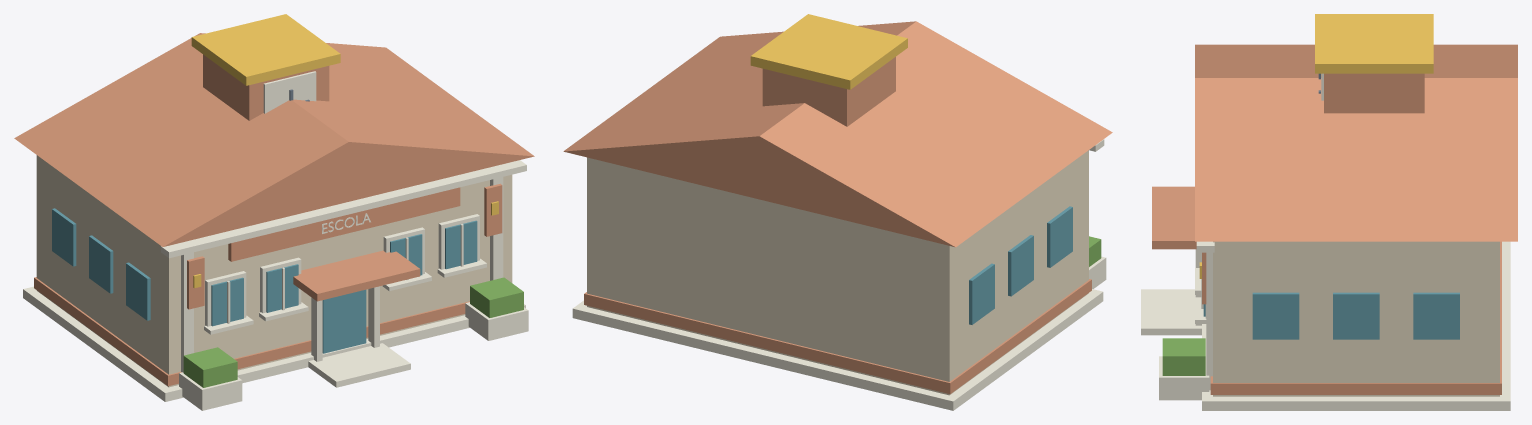
File: escola.glb
3 views of the same model, side by side, from view 1: azimuth 30°, elevation 25°; view 2: azimuth 150°, elevation 25°; view 3: azimuth 270°, elevation 25° (orthographic). The views are drawn at different scales.
Visible parts, largest first — view 1: Foundation; view 2: Foundation; view 3: Foundation.
Part boxes in pixels (x1,y1,x2,y2): Foundation: (14,14,534,410); Foundation: (563,14,1112,410); Foundation: (1141,14,1517,410).
Bounding box in the file's own units: 13 × 8.5 × 10.5.
